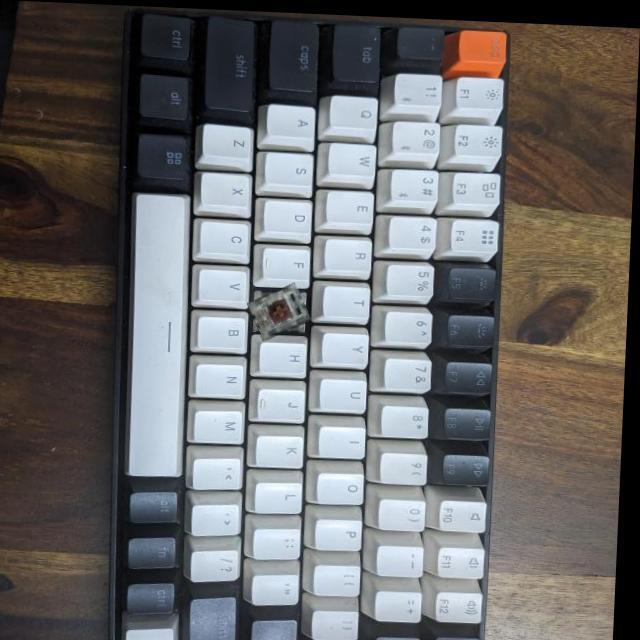key-switch: (250, 283, 312, 336)
